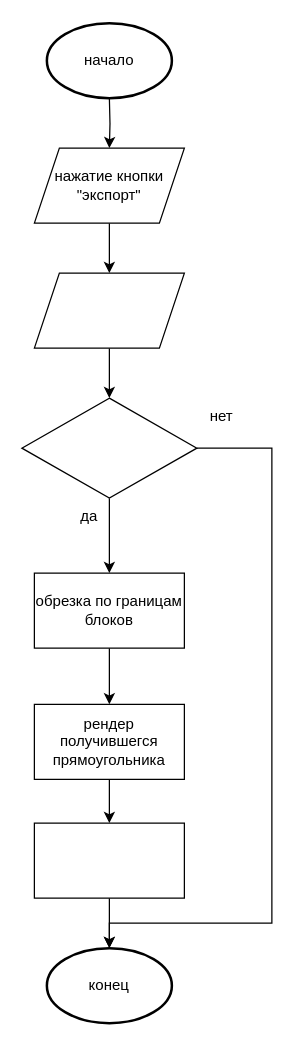
The diagram is 304 pixels wide and 1045 high, and some of its shapes have lost their labels. Each missing label, with the centre of its shape:
выбор директории и ввод имени файла: (x=108, y=310)
подтверждено: (x=109, y=447)
сохранение: (x=108, y=860)
